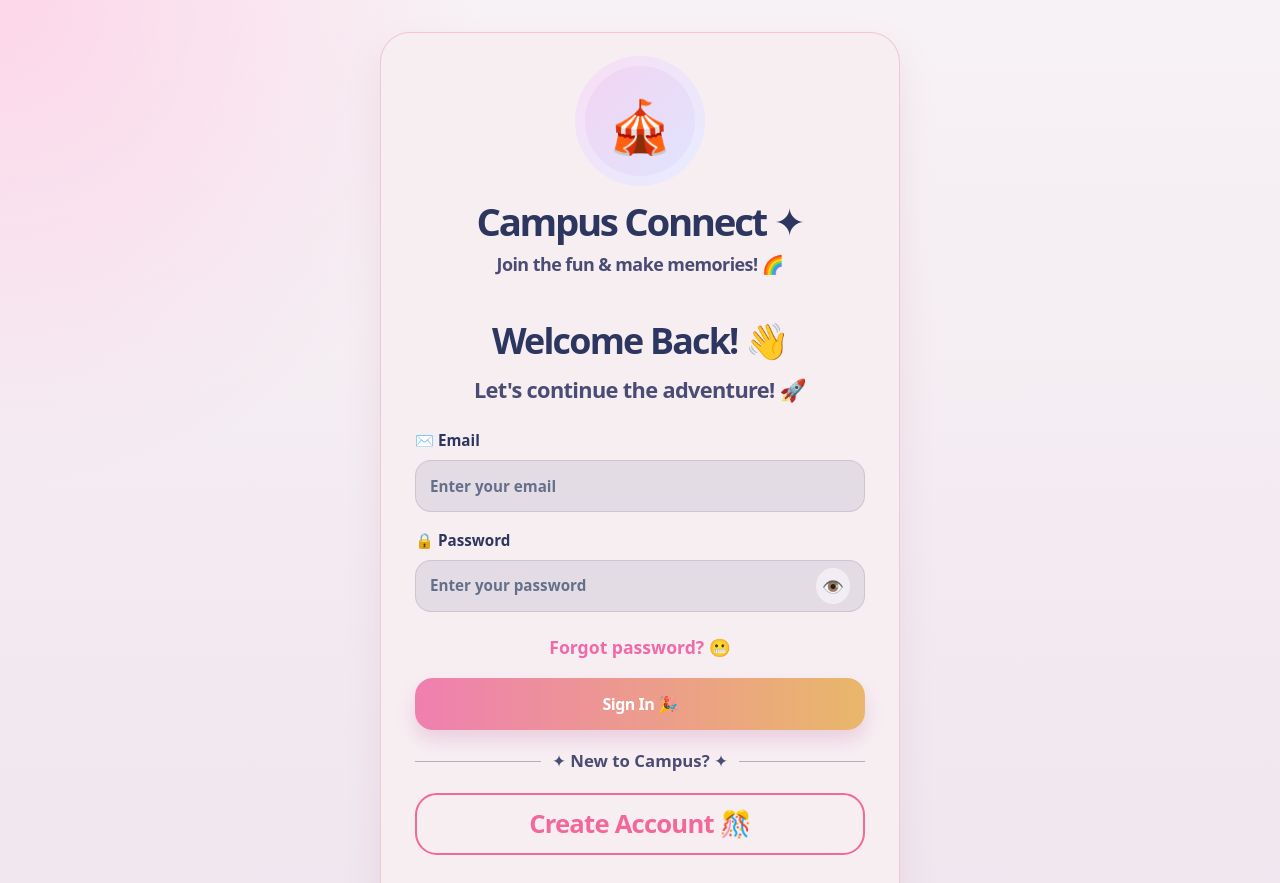
Test case: LoginPage › opens an email prompt and requests a password reset link
Click the button "Forgot password? 😬" at (640,647), box left=415, top=634, right=865, bottom=660
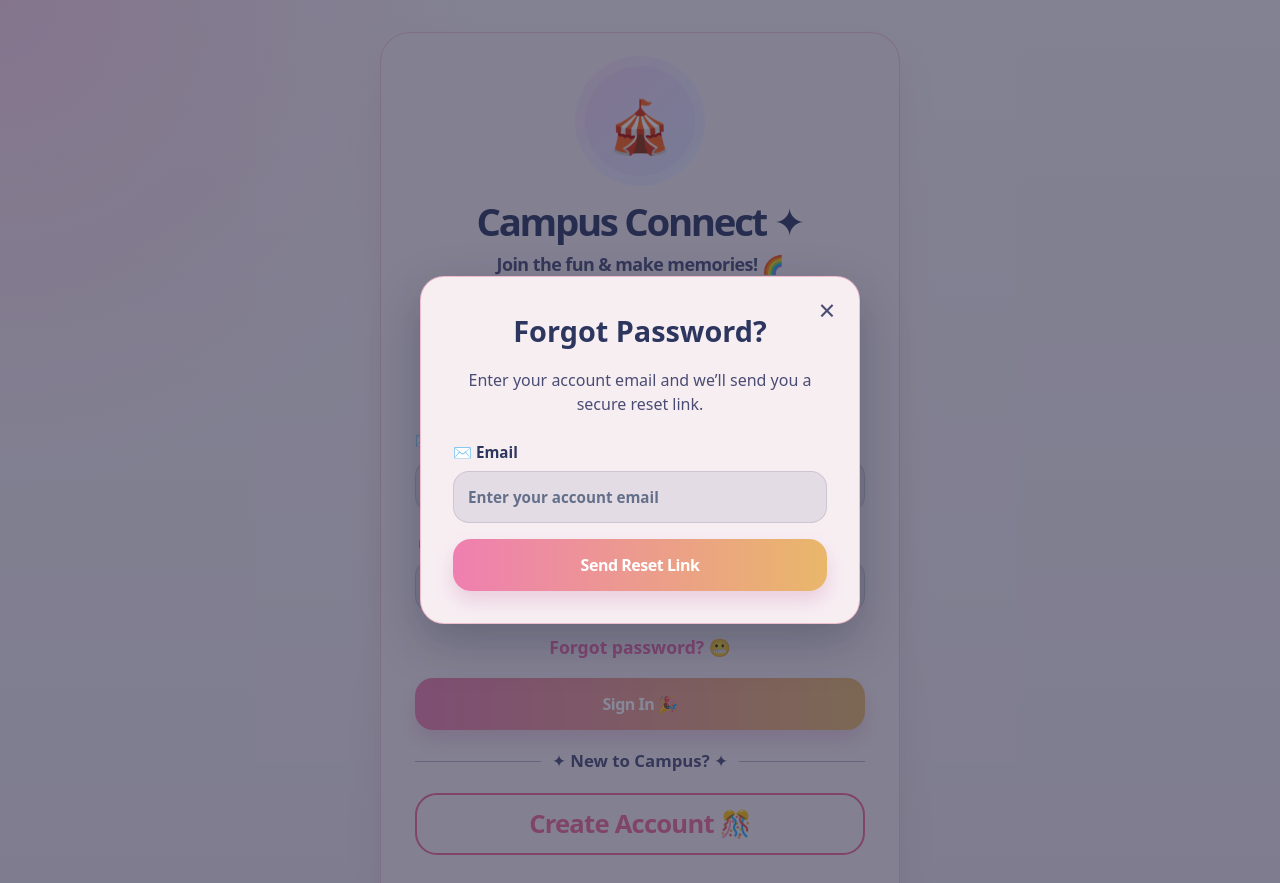
Check: the dialog is shown, box left=420, top=276, right=860, bottom=624
Type "mina@test.com" into the field named "Email to reset" at (640,498), box left=468, top=486, right=812, bottom=509
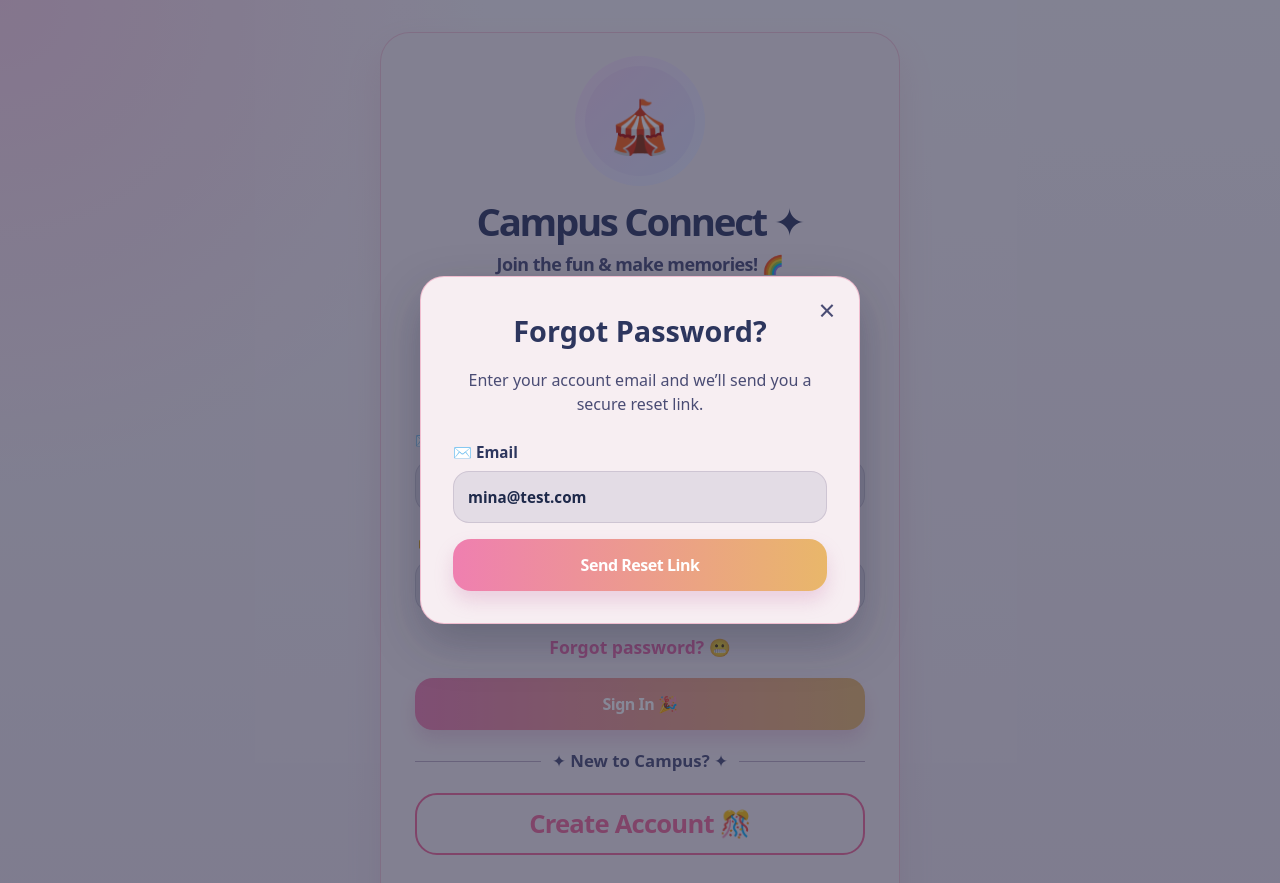
Click the button "Send Reset Link" at (640,566), box left=453, top=540, right=827, bottom=592
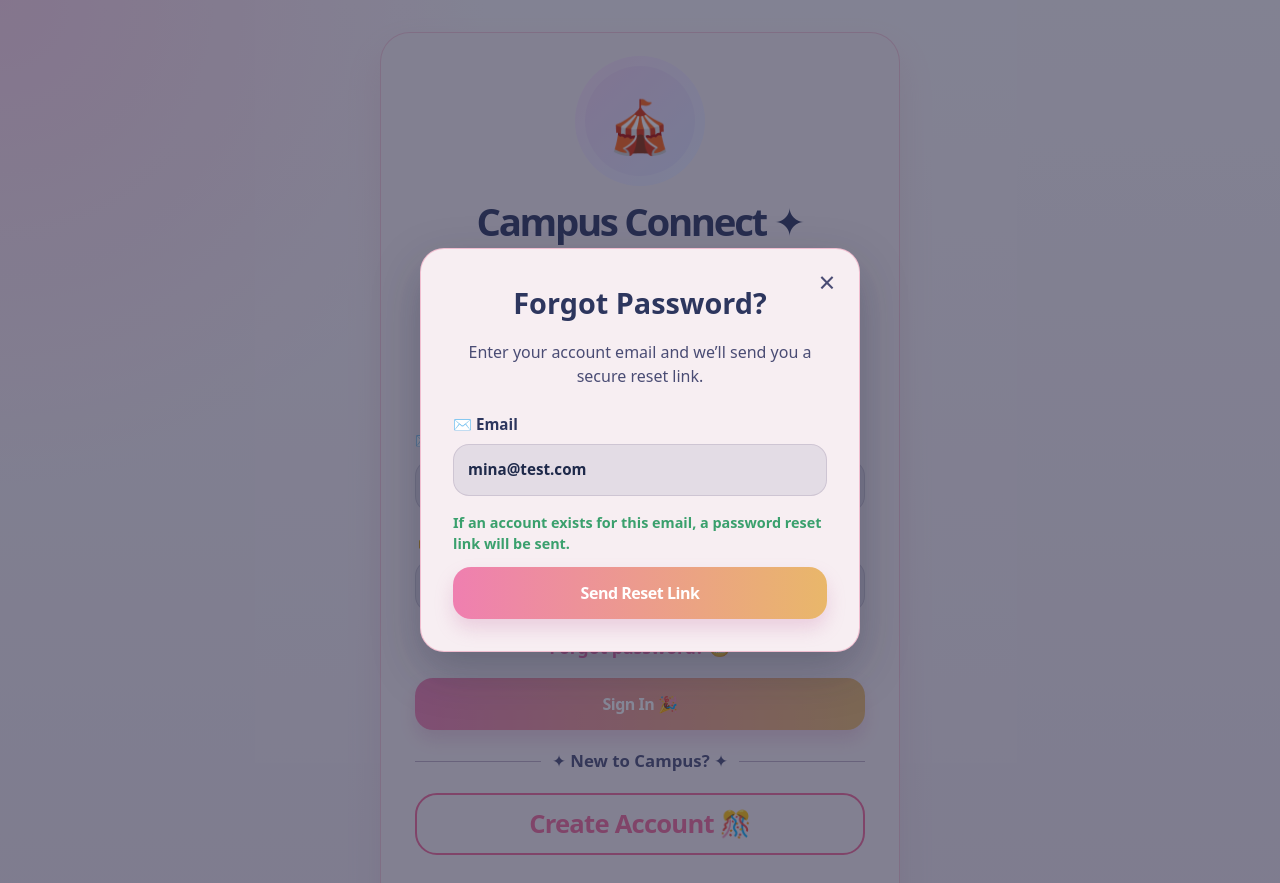
Check: the text "If an account exists for this email, a password reset link will be sent." is shown, box left=453, top=512, right=827, bottom=555
